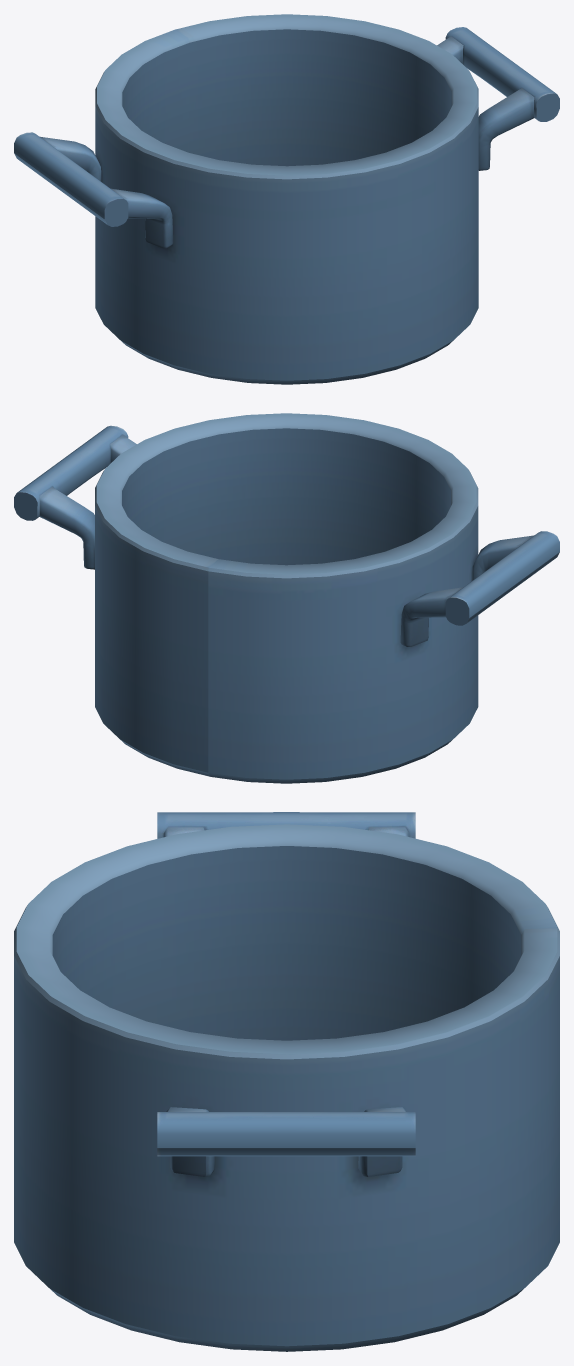
Rendered from Pot.glb.
3 views of the same model, one above another, from view 1: azimuth 30°, elevation 25°; view 2: azimuth 150°, elevation 25°; view 3: azimuth 270°, elevation 25° (orthographic). The views are drawn at different scales.
Visible parts, largest first — view 1: Pot; view 2: Pot; view 3: Pot.
Boxes of the visible parts, left/top/right/bottom form: Pot: left=14, top=14, right=559, bottom=384; Pot: left=14, top=413, right=559, bottom=783; Pot: left=14, top=812, right=559, bottom=1351.
Size of the model in its own units: 1.15 by 0.5102 by 0.8393.
1 material, 1 textured.
